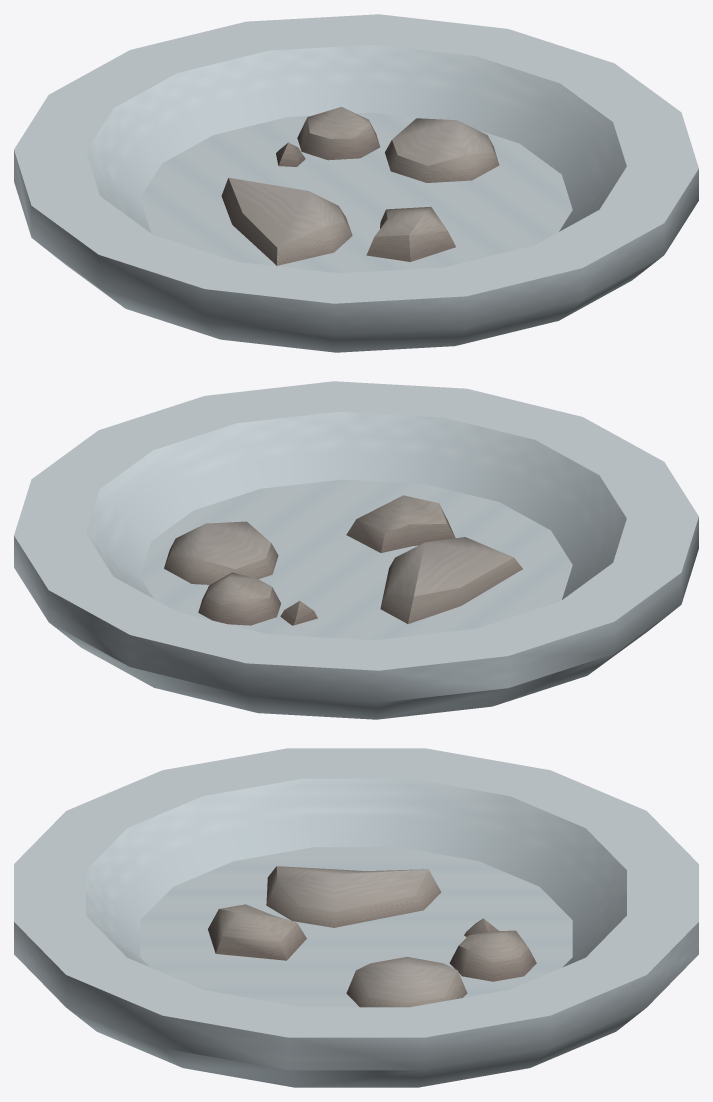
The model's file is plate_dirty.gltf.
3 views of the same model, one above another, from view 1: azimuth 30°, elevation 25°; view 2: azimuth 150°, elevation 25°; view 3: azimuth 270°, elevation 25° (orthographic).
Parts seen in each view (by area): view 1: plate_dirty; view 2: plate_dirty; view 3: plate_dirty.
Boxes of the visible parts, box(x1,y1,x2,y2) form: plate_dirty: box(14, 14, 698, 352); plate_dirty: box(14, 381, 698, 719); plate_dirty: box(14, 748, 698, 1087).
Size of the model in its own units: 0.95 by 0.1 by 0.95.
1 material, 1 textured.
